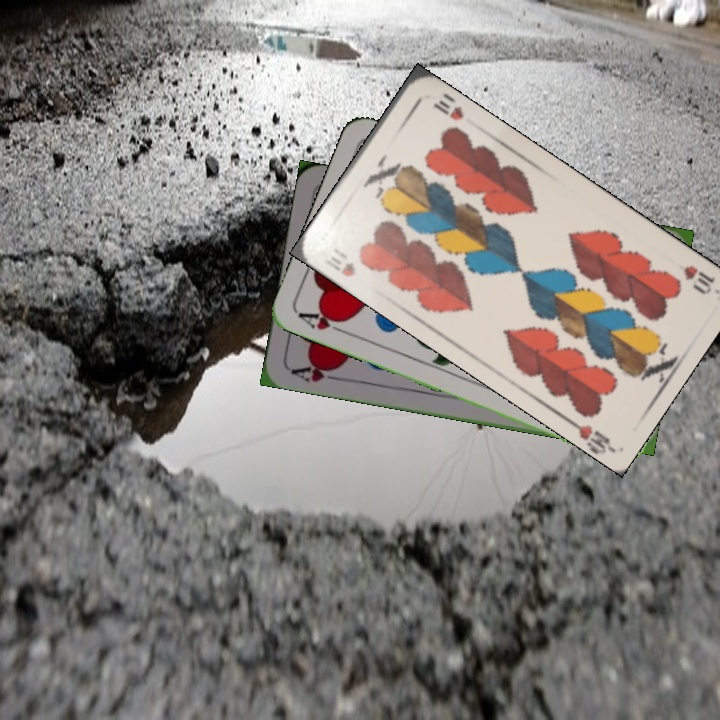H10: (320, 244, 359, 280), (680, 261, 719, 297)
HA: (294, 305, 352, 337), (287, 358, 346, 385)
